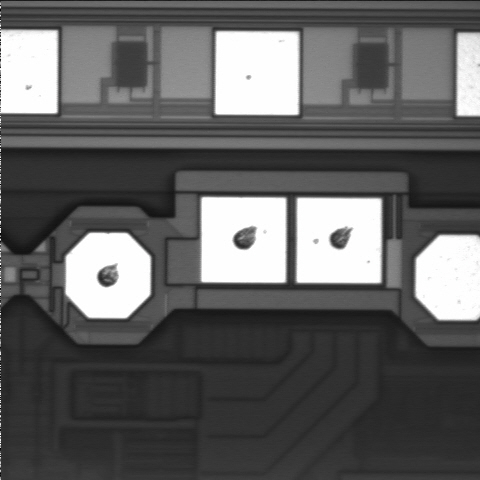pad: (201, 197, 286, 283), (297, 198, 381, 283), (66, 233, 150, 318), (215, 31, 299, 115)
